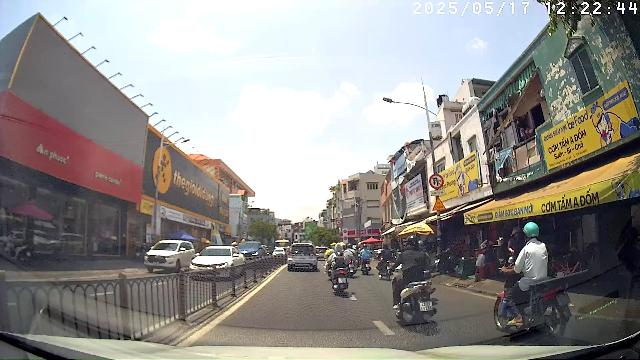124b-cam-oto-quay-dau-xe: (430, 173, 444, 189)
